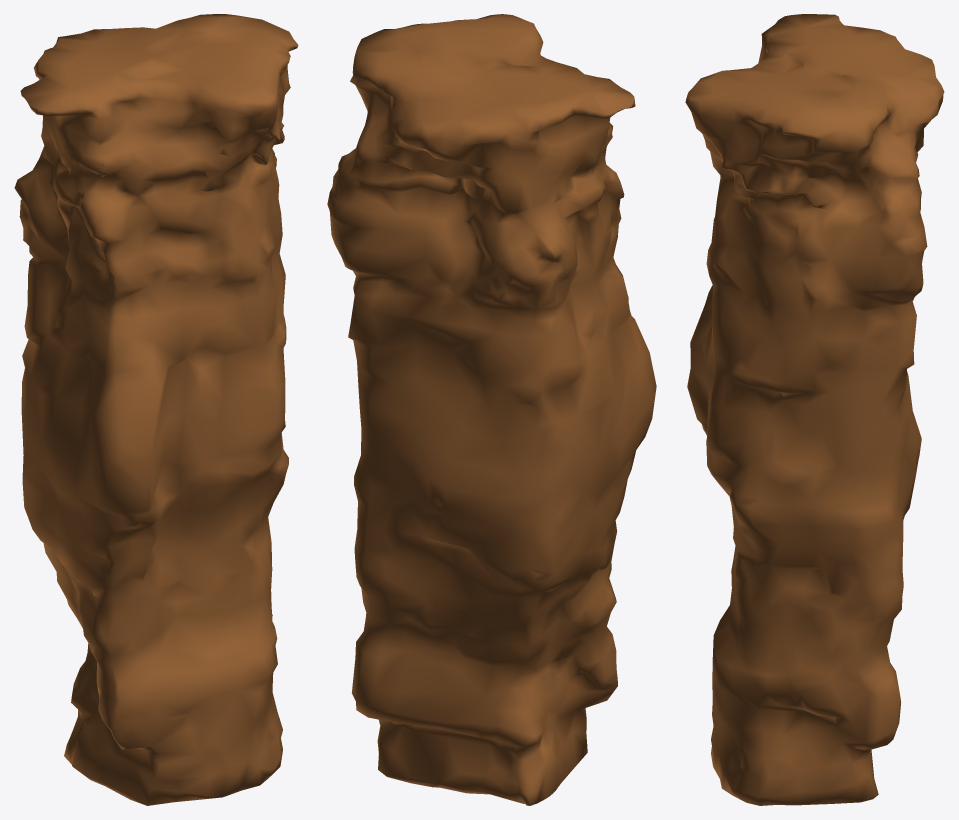
File: MSH_Rocks_Cliff_20_a.FBX
The picture shows the model from 3 angles, left to right: view 1: azimuth 30°, elevation 25°; view 2: azimuth 150°, elevation 25°; view 3: azimuth 270°, elevation 25°; orthographic projection.
Parts seen in each view (by area): view 1: MESH_LOD0; view 2: MESH_LOD0; view 3: MESH_LOD0.
Part boxes in pixels (x1=…): MESH_LOD0: x1=14, y1=14, x2=298, y2=805; MESH_LOD0: x1=327, y1=14, x2=656, y2=805; MESH_LOD0: x1=685, y1=14, x2=944, y2=805.
Size of what is drawn, in the model's own units: 262 by 685 by 226.
